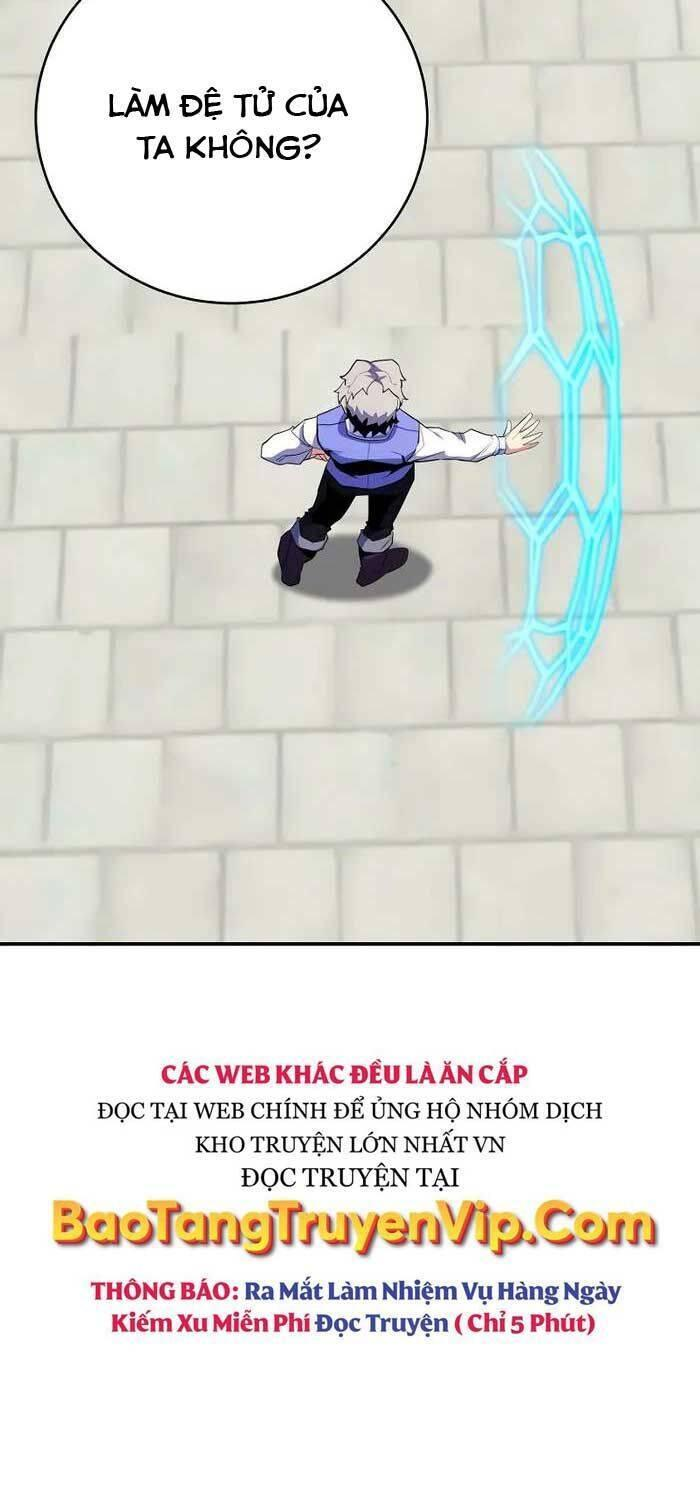quangcao: (40, 1054, 670, 1342)
